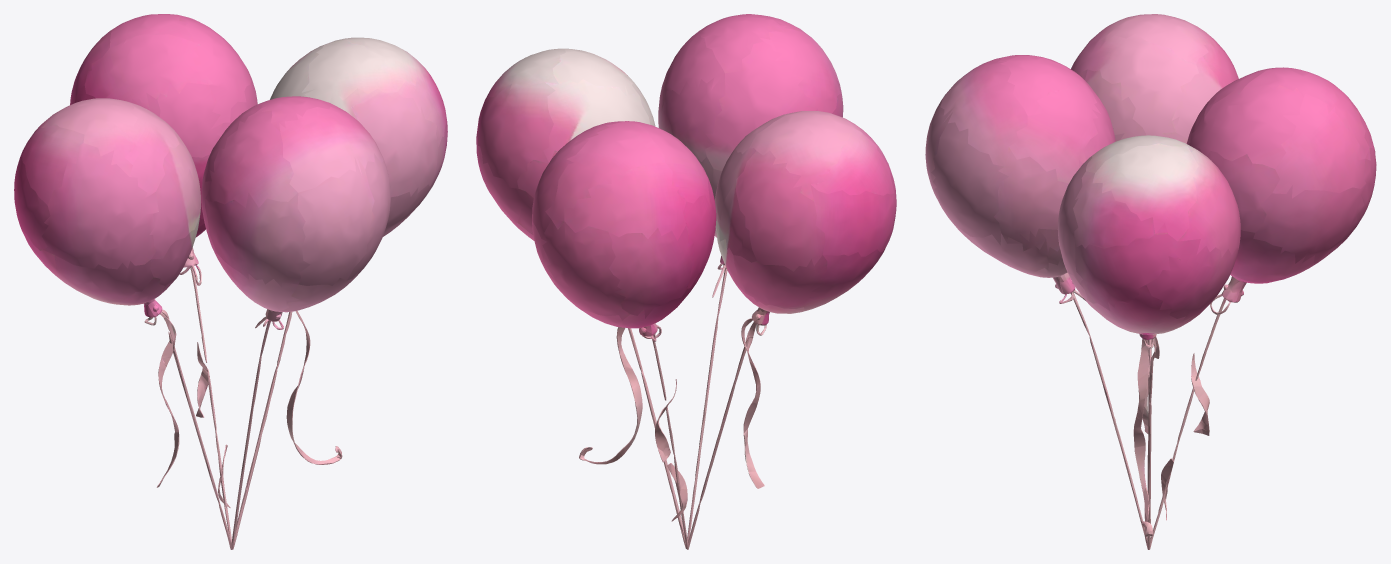
File: balloons-party.glb
3 renders of one model, left to right at view 1: azimuth 30°, elevation 25°; view 2: azimuth 150°, elevation 25°; view 3: azimuth 270°, elevation 25°, orthographic. The views are drawn at different scales.
Size of the model in its own units: 0.8666 by 1 by 0.8398.
1 material, 1 textured.
